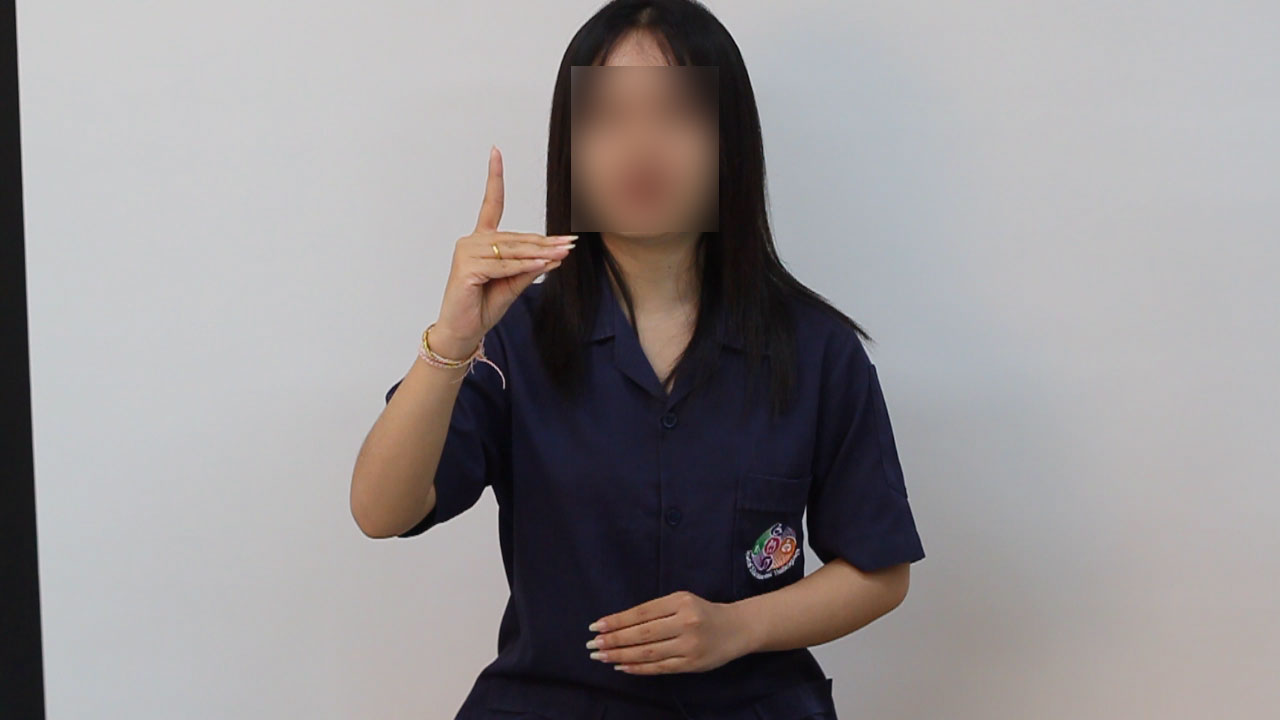dor: (441, 136, 589, 359)
